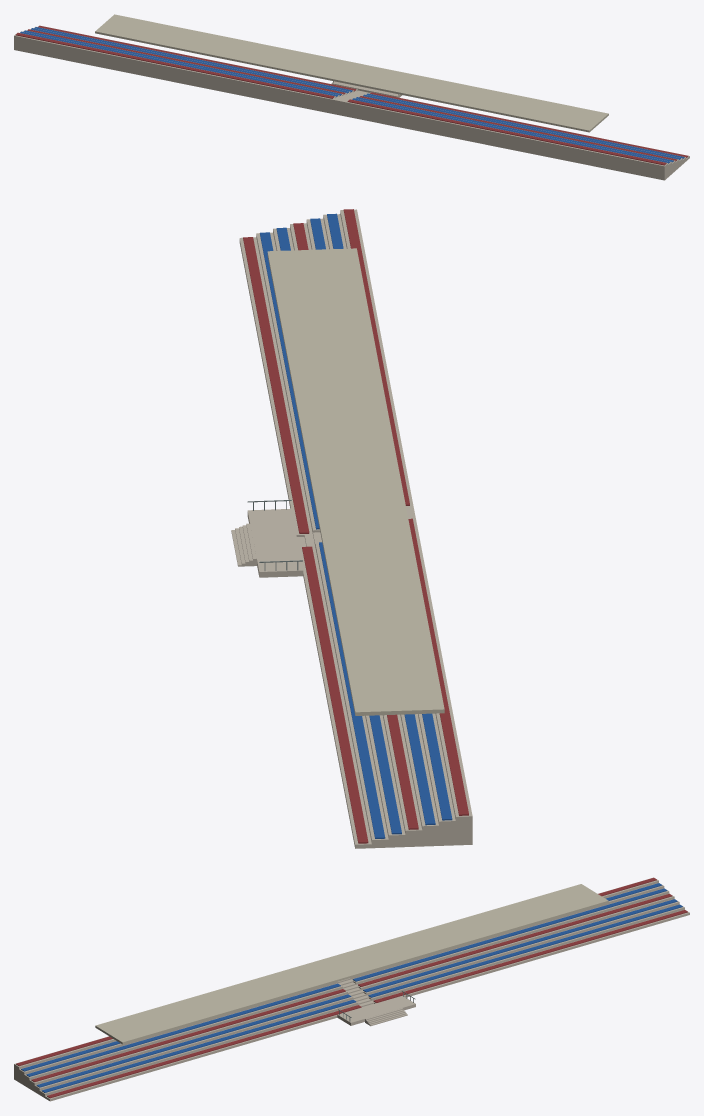
The picture shows the model from 3 angles, top to bottom: view 1: azimuth 30°, elevation 25°; view 2: azimuth 150°, elevation 25°; view 3: azimuth 270°, elevation 25°; orthographic projection. The views are drawn at different scales.
Visible parts, largest first — view 1: B20_grandstand, Grandstand_canopy_estimated, Grandstand_seating, Stadium_ceremonial_platform; view 2: Grandstand_canopy_estimated, Grandstand_seating, B20_grandstand, Stadium_ceremonial_platform; view 3: B20_grandstand, Grandstand_seating, Grandstand_canopy_estimated, Stadium_ceremonial_platform.
Part boxes in pixels (bbox=[...]): B20_grandstand: bbox=[14, 25, 689, 180]; Grandstand_canopy_estimated: bbox=[95, 14, 608, 132]; Grandstand_seating: bbox=[16, 25, 688, 165]; Stadium_ceremonial_platform: bbox=[331, 81, 402, 97]; Grandstand_canopy_estimated: bbox=[267, 248, 444, 715]; Grandstand_seating: bbox=[243, 209, 468, 843]; B20_grandstand: bbox=[239, 209, 472, 848]; Stadium_ceremonial_platform: bbox=[231, 500, 303, 577]; B20_grandstand: bbox=[14, 877, 689, 1101]; Grandstand_seating: bbox=[16, 877, 687, 1098]; Grandstand_canopy_estimated: bbox=[95, 884, 608, 1044]; Stadium_ceremonial_platform: bbox=[337, 991, 415, 1026].
Size of the model in its own units: 87.34 by 6.8 by 120.
